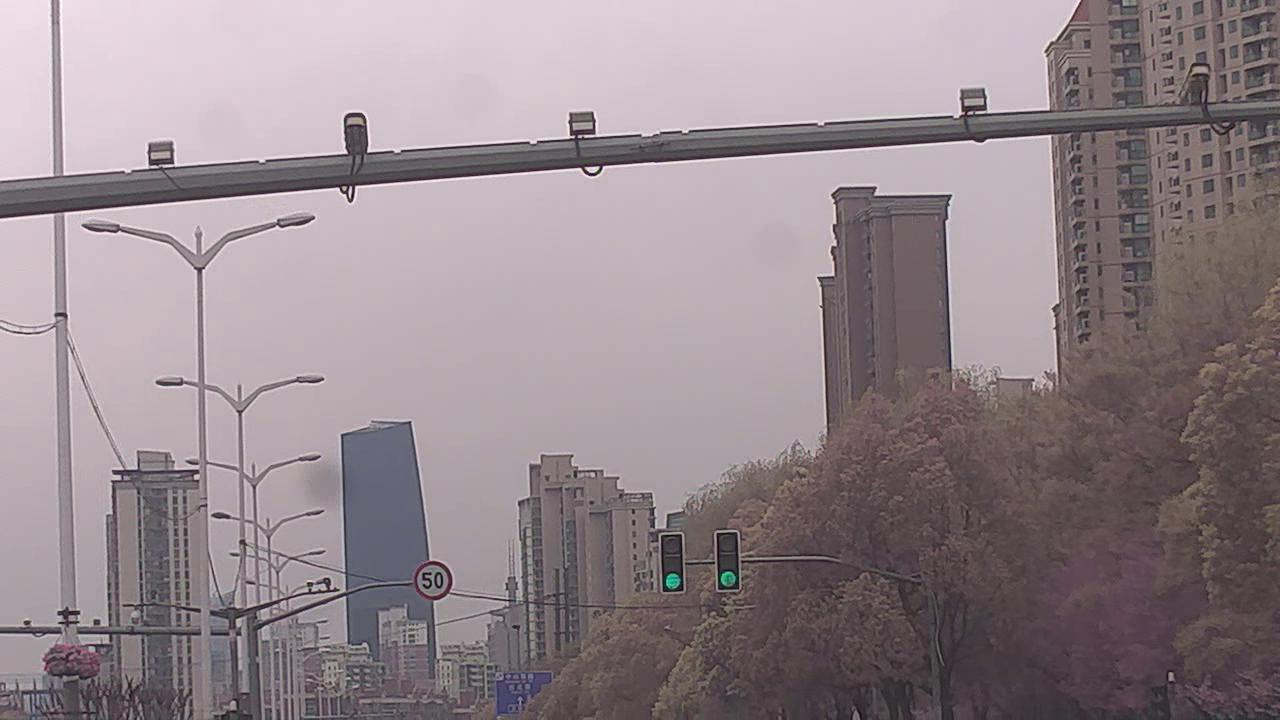traffic_light: (662, 529, 687, 592), (715, 530, 743, 586)
